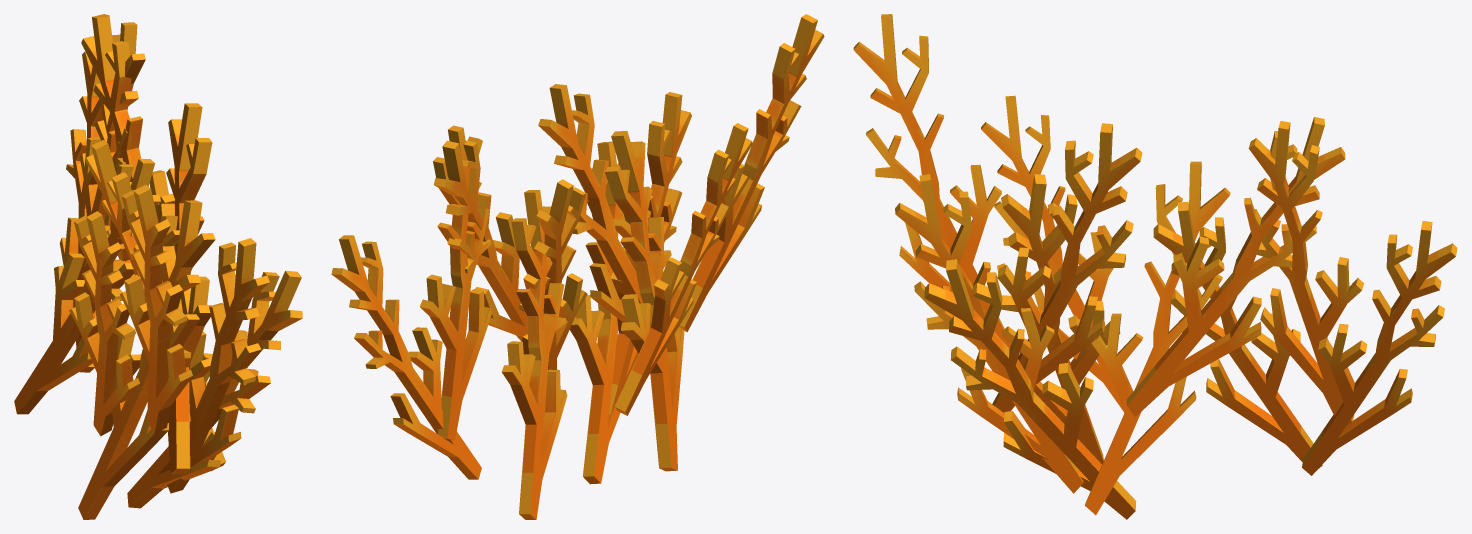
Rendered from coral3textured.glb.
3 views of the same model, side by side, from view 1: azimuth 30°, elevation 25°; view 2: azimuth 150°, elevation 25°; view 3: azimuth 270°, elevation 25° (orthographic). The views are drawn at different scales.
Parts seen in each view (by area): view 1: Plane.002; view 2: Plane.002; view 3: Plane.002.
Part boxes in pixels (<box>): Plane.002: <box>14,14,302,519</box>; Plane.002: <box>331,14,824,519</box>; Plane.002: <box>853,14,1457,519</box>.
Bounding box in the file's own units: 13.52 × 23.58 × 28.79.
1 material, 1 textured.
